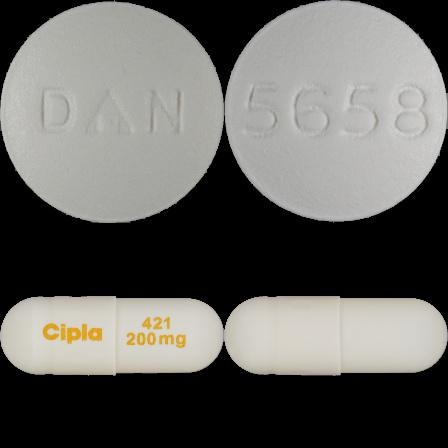61786-724: (0, 0, 224, 224)
